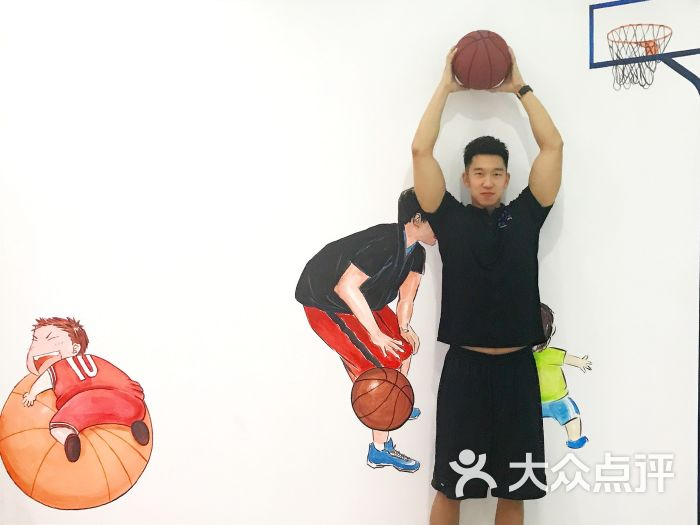ball: (1, 356, 154, 510), (350, 367, 415, 431), (452, 29, 511, 92)
